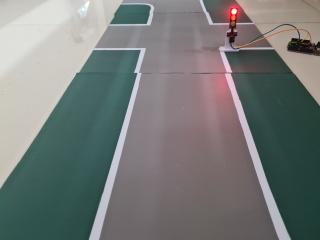red: (225, 5, 242, 32)
